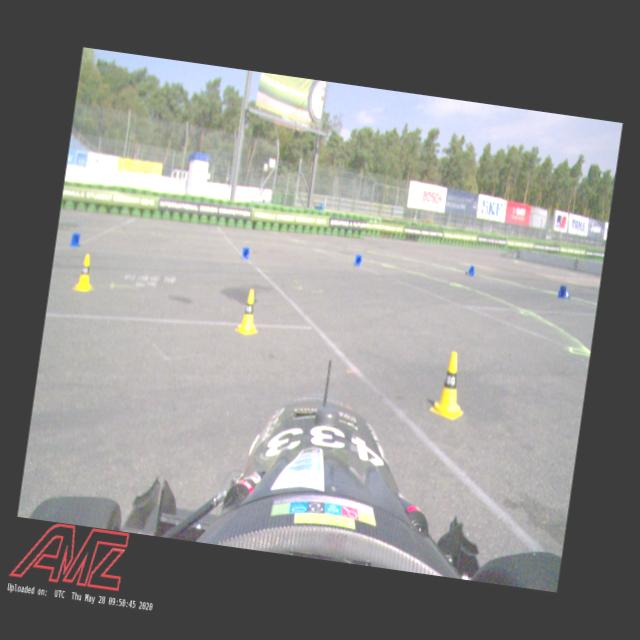blue_cone: (557, 284, 571, 300), (70, 232, 83, 248), (464, 264, 476, 277), (241, 247, 251, 260), (354, 254, 364, 266)
yellow_cone: (428, 348, 472, 422), (234, 288, 264, 337), (72, 252, 99, 294)
